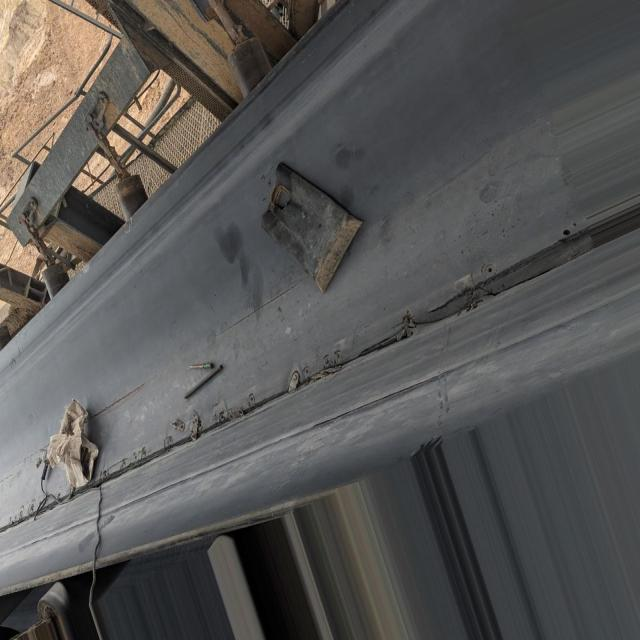Other Objects: (263, 165, 362, 297), (46, 398, 101, 488), (186, 362, 225, 400)
Roller: (225, 37, 273, 98), (40, 260, 76, 298), (115, 176, 145, 218)
Tear: (0, 226, 592, 538)
